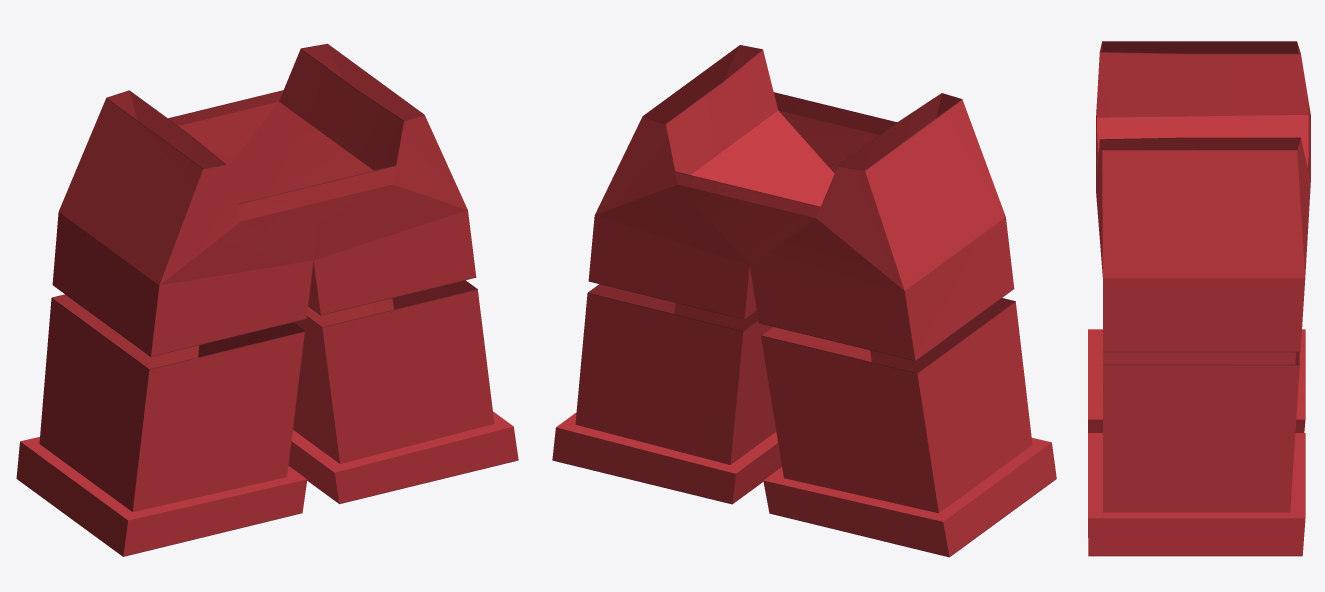
Rendered from Base Pant.fbx.
The picture shows the model from 3 angles, left to right: view 1: azimuth 30°, elevation 25°; view 2: azimuth 150°, elevation 25°; view 3: azimuth 270°, elevation 25°; orthographic projection.
Parts seen in each view (by area): view 1: Right_Legging, Left_Legging, Lower_Right_Pant, Pant, Lower_Leftt_Pant; view 2: Right_Legging, Left_Legging, Lower_Right_Pant, Lower_Leftt_Pant, Pant; view 3: Left_Legging, Lower_Leftt_Pant, Lower_Right_Pant, Pant, Right_Legging.
Boxes of the visible parts, x1=… form: Right_Legging: x1=16, y1=212, x2=313, y2=556; Left_Legging: x1=288, y1=210, x2=518, y2=503; Lower_Right_Pant: x1=58, y1=90, x2=313, y2=285; Pant: x1=168, y1=90, x2=395, y2=260; Lower_Leftt_Pant: x1=279, y1=43, x2=467, y2=260; Right_Legging: x1=749, y1=217, x2=1056, y2=557; Left_Legging: x1=552, y1=215, x2=781, y2=504; Lower_Right_Pant: x1=750, y1=93, x2=1005, y2=290; Lower_Leftt_Pant: x1=595, y1=45, x2=777, y2=265; Pant: x1=675, y1=92, x2=896, y2=265; Left_Legging: x1=1088, y1=278, x2=1305, y2=556; Lower_Leftt_Pant: x1=1096, y1=137, x2=1310, y2=278; Lower_Right_Pant: x1=1097, y1=41, x2=1308, y2=117; Pant: x1=1096, y1=102, x2=1310, y2=189; Right_Legging: x1=1088, y1=329, x2=1305, y2=432.
Bounding box in the file's own units: 45.17 × 44.8 × 21.62.
